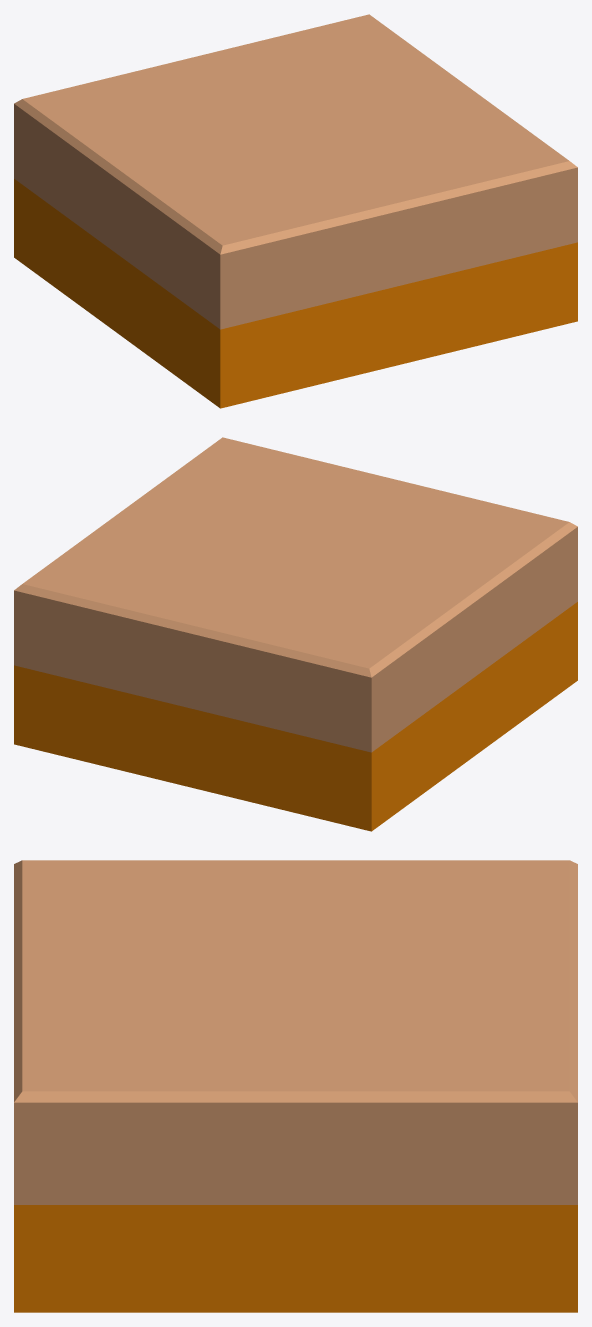
Rendered from wine_tile.fbx.
3 views of the same model, one above another, from view 1: azimuth 30°, elevation 25°; view 2: azimuth 150°, elevation 25°; view 3: azimuth 270°, elevation 25° (orthographic). The views are drawn at different scales.
Parts seen in each view (by area): view 1: Plane_008; view 2: Plane_008; view 3: Plane_008.
Part boxes in pixels (x1=…): Plane_008: x1=14, y1=14, x2=577, y2=408; Plane_008: x1=14, y1=437, x2=577, y2=831; Plane_008: x1=14, y1=860, x2=577, y2=1312.
Bounding box in the file's own units: 2 × 0.8523 × 2.
